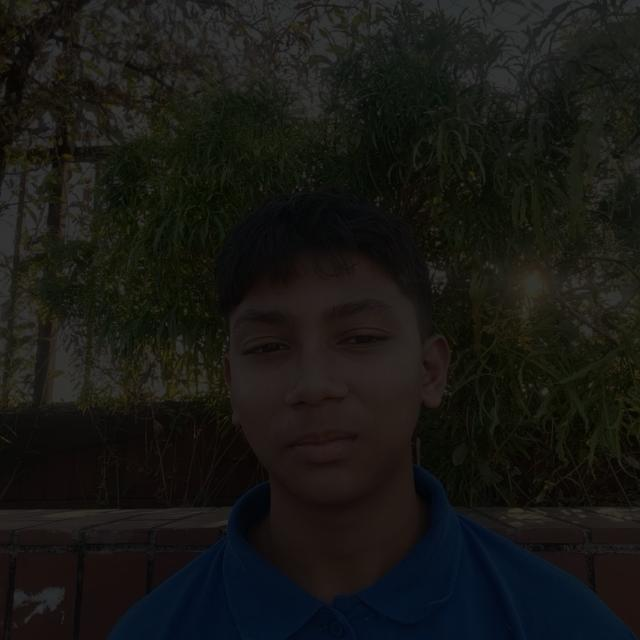Disgust: (175, 222, 453, 539)
